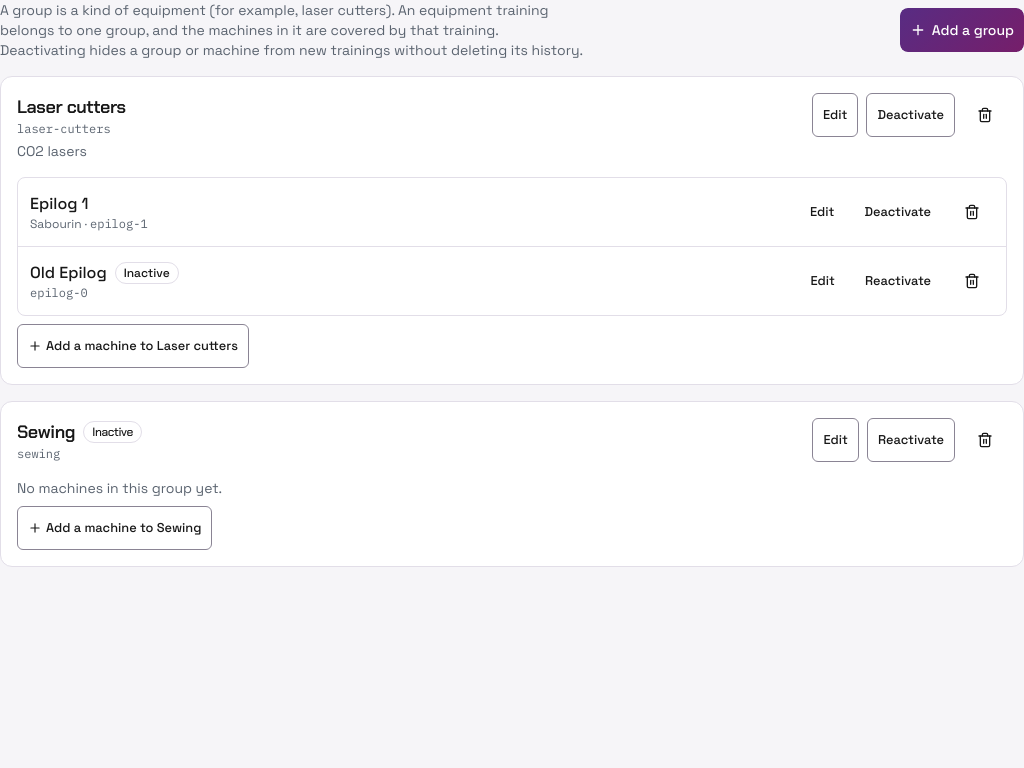
EquipmentManager groups › shows a taken slug as the server reports it
This screenshot has width=1024, height=768.
Expected: the heading "Laser cutters" is shown, [17, 93, 126, 121]
Click the button "Add a group": [962, 30] box [900, 8, 1023, 52]
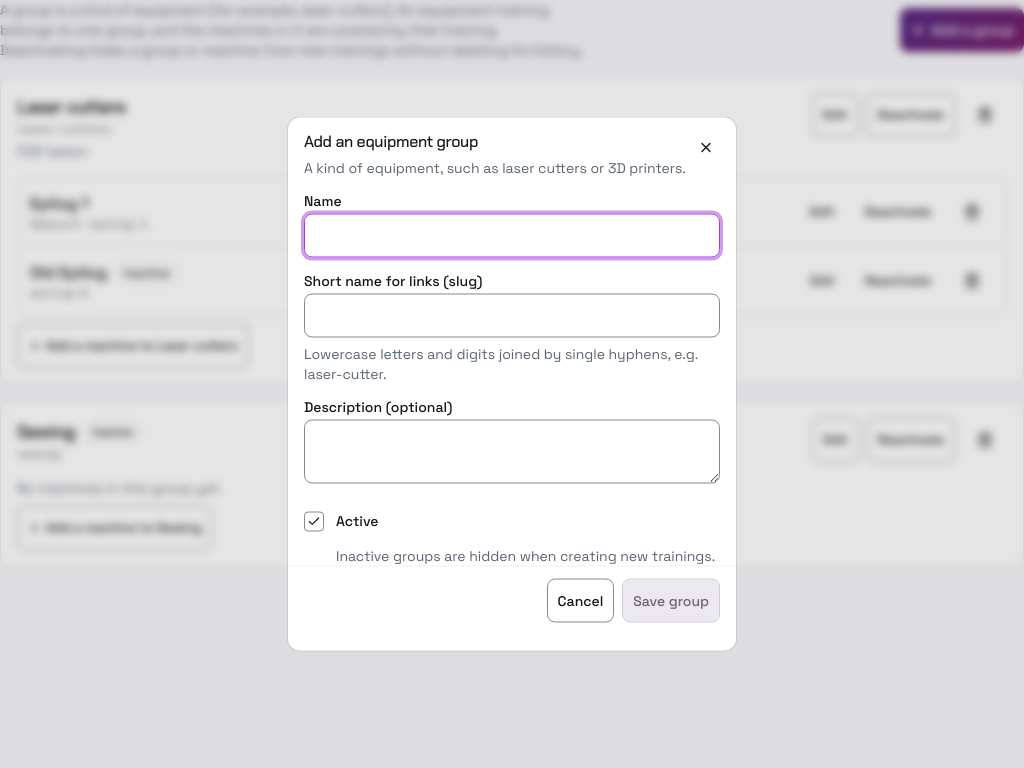
In the field labelled "Name": [512, 236] box [304, 214, 720, 258], type "Sewing"
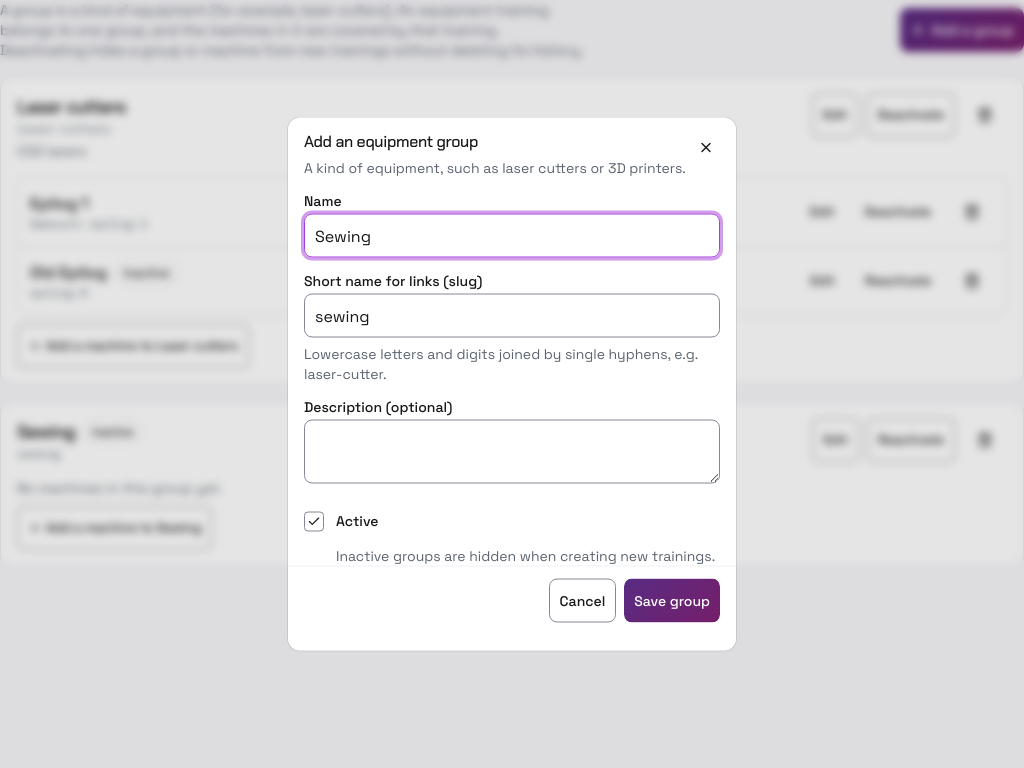
Click the button "Save group": [672, 600] box [624, 578, 720, 622]
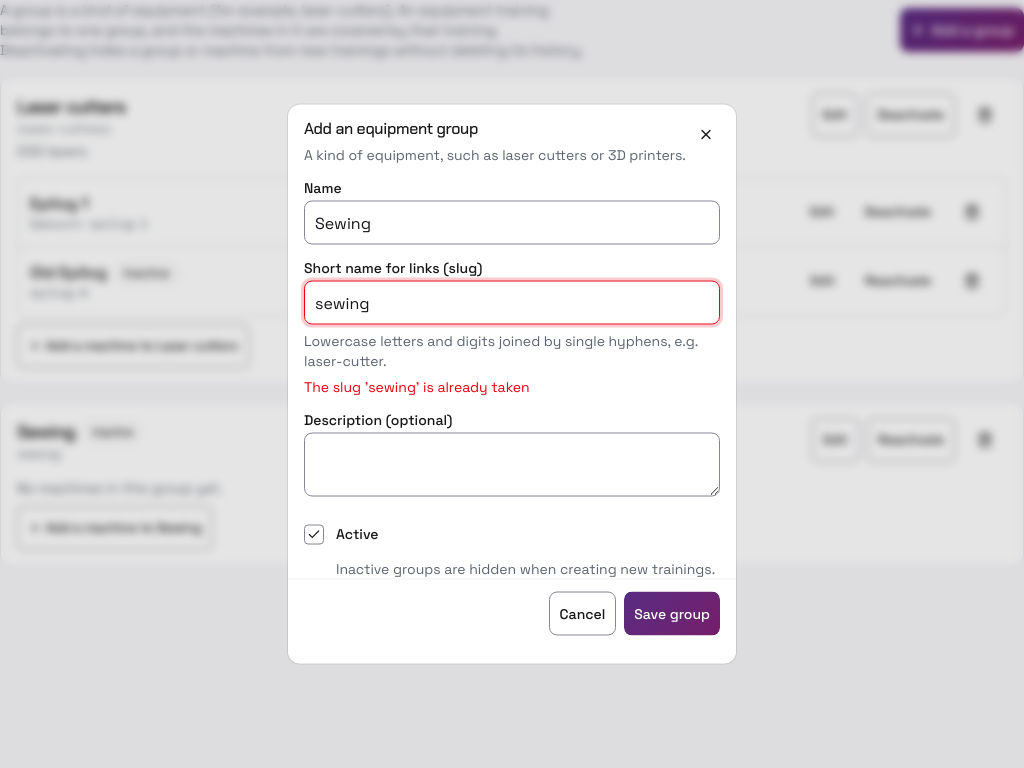
Result: the text "The slug 'sewing' is already taken" is shown at [304, 378, 530, 396]
